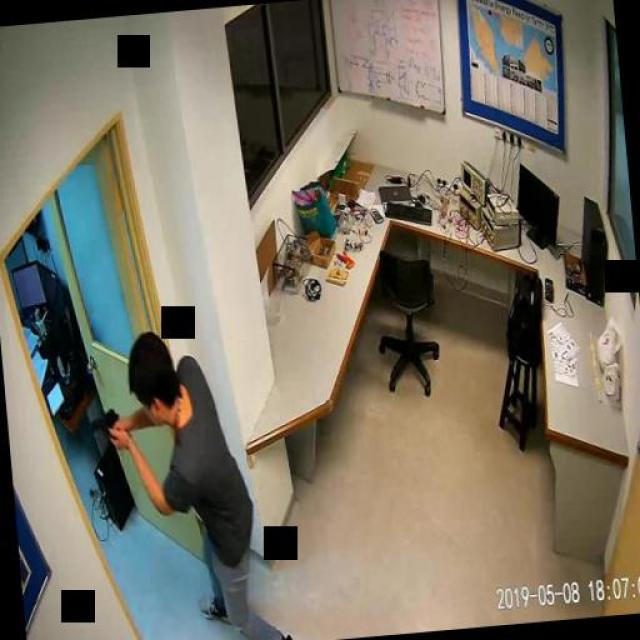gun: (85, 408, 123, 450)
